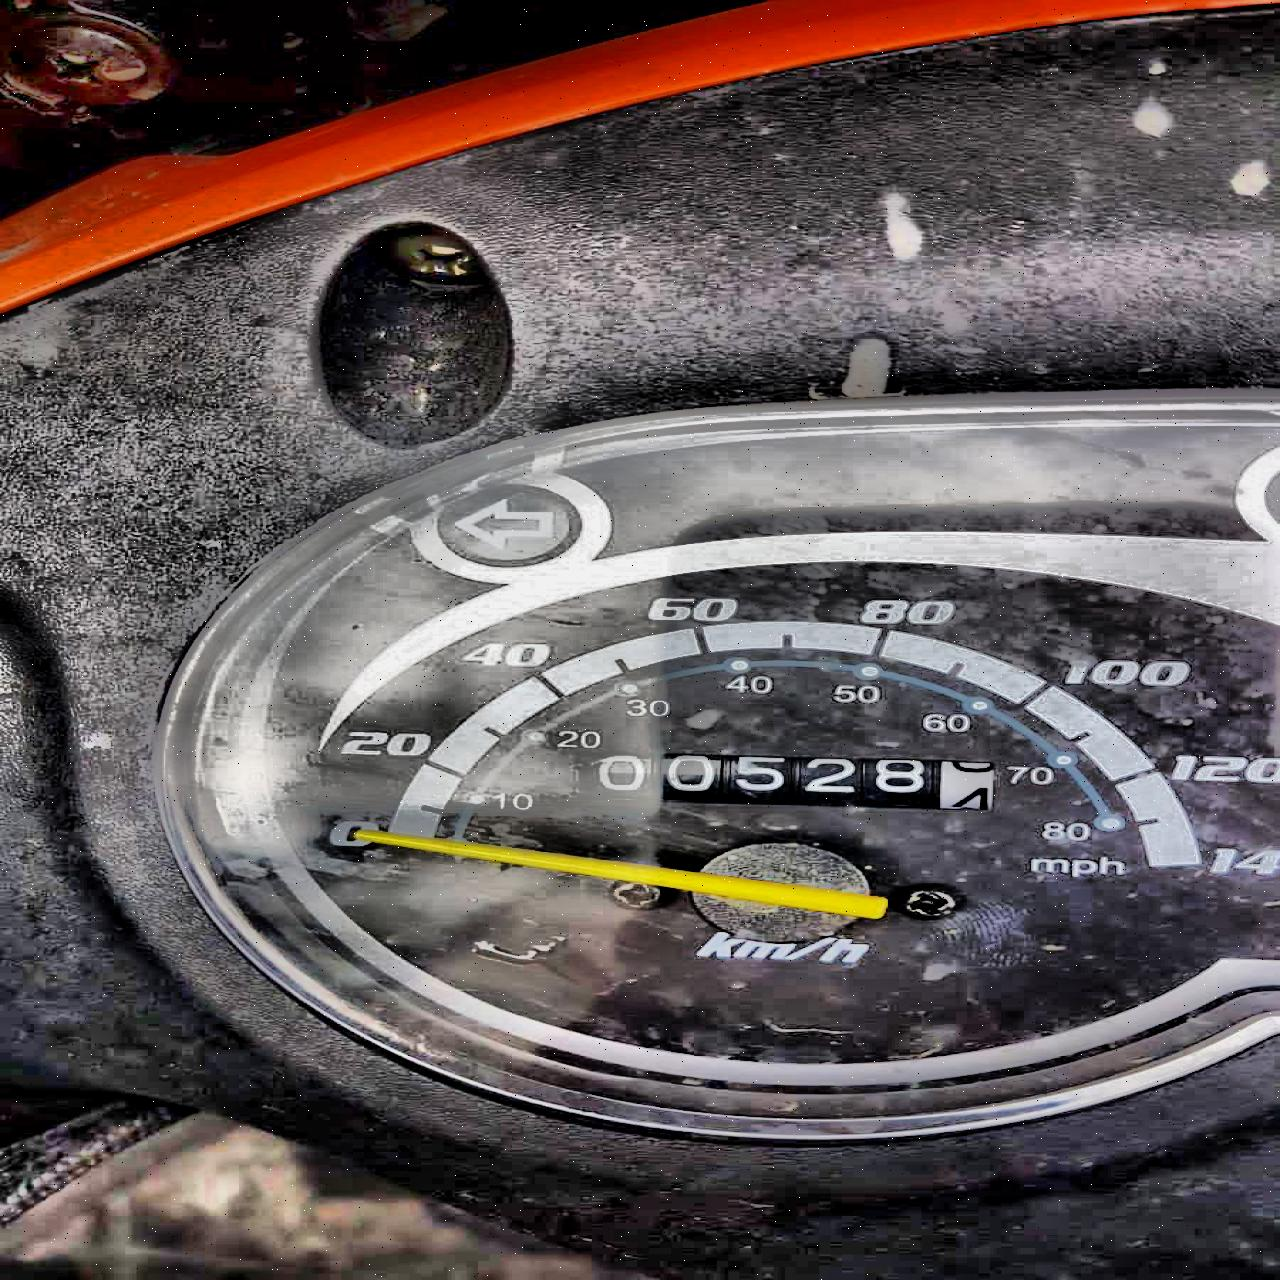0: (595, 753, 646, 791), (663, 755, 714, 791)
2: (802, 757, 855, 792)
4: (947, 785, 993, 812)
5: (733, 756, 787, 790)
8: (873, 758, 926, 794)
odometer: (563, 749, 998, 813)
